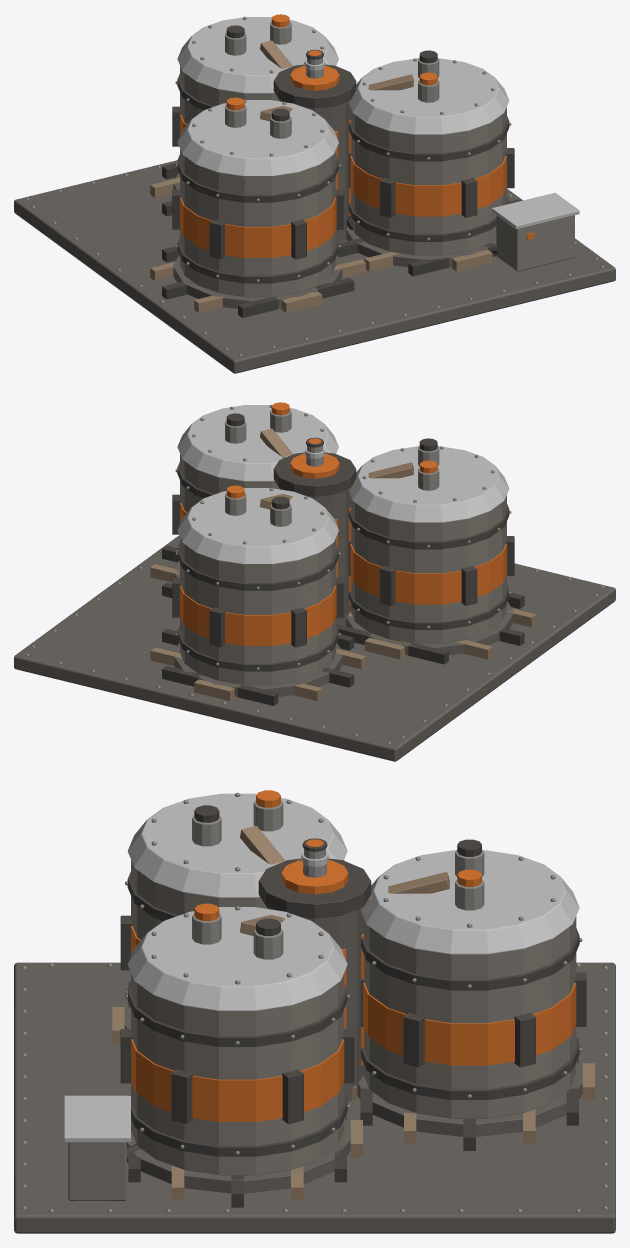
File: crucible_energy_storage.glb
3 renders of one model, top to bottom at view 1: azimuth 30°, elevation 25°; view 2: azimuth 150°, elevation 25°; view 3: azimuth 270°, elevation 25°, orthographic. The views are drawn at different scales.
Parts seen in each view (by area): view 1: Body; view 2: Body; view 3: Body.
Boxes of the visible parts, x1=… form: Body: x1=14, y1=14, x2=615, y2=373; Body: x1=14, y1=402, x2=615, y2=761; Body: x1=14, y1=790, x2=615, y2=1233.
Size of the model in its own units: 14.4 by 6.98 by 14.4.
